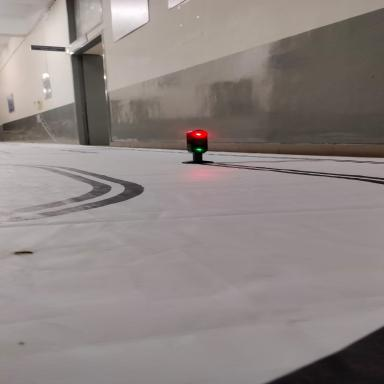traffic red: (172, 121, 228, 168)
